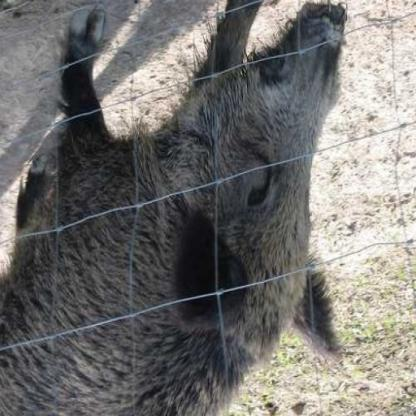boar: (2, 1, 345, 413)
